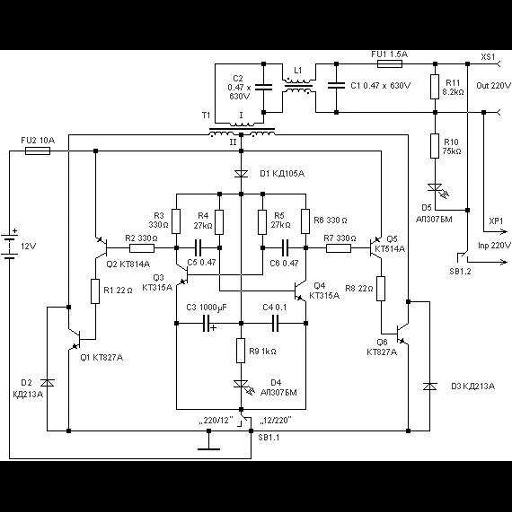battery: (1, 227, 19, 261)
capacitor: (267, 314, 287, 332), (324, 78, 348, 91), (255, 79, 274, 95), (191, 237, 205, 258), (279, 237, 292, 258)
firstpolarcapacitor: (198, 313, 220, 333)
firstresistance: (373, 272, 390, 304), (254, 208, 270, 238), (231, 336, 247, 366), (426, 130, 441, 161), (168, 206, 184, 235), (212, 208, 227, 237), (427, 70, 441, 101), (298, 207, 312, 237), (322, 242, 354, 255), (88, 277, 102, 306), (124, 243, 159, 254)
fuse: (374, 58, 410, 71), (21, 145, 54, 159)
npn: (366, 232, 388, 262), (64, 326, 87, 352), (289, 277, 309, 304), (394, 319, 412, 348), (174, 263, 191, 290)
pnp: (90, 233, 111, 260)
seconddiode: (232, 165, 251, 181), (36, 378, 59, 388), (421, 381, 439, 393)
secondled: (424, 179, 453, 200), (230, 377, 256, 397)
transformer: (208, 119, 281, 138), (282, 76, 317, 96)
